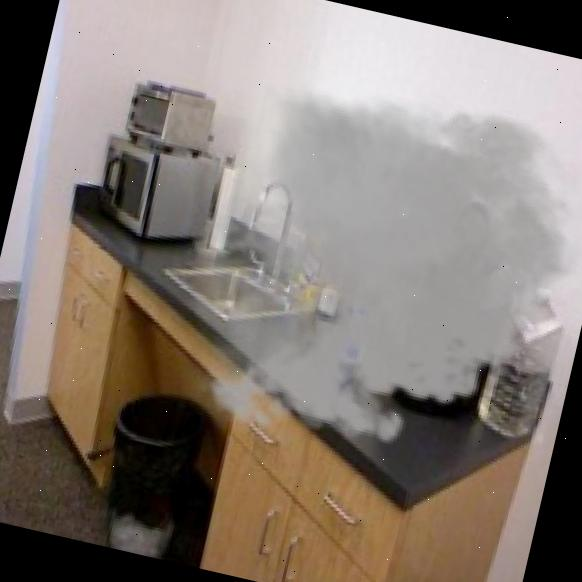smoke: (136, 36, 582, 505)
